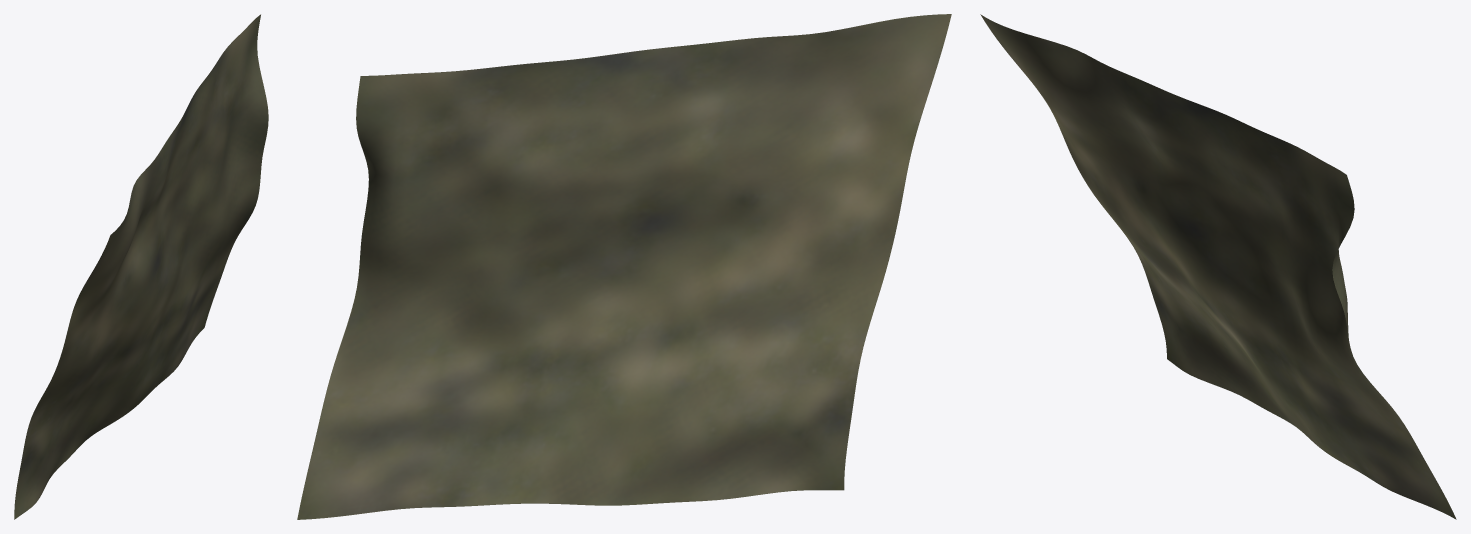
Rendered from ground_mid_03_06.obj.
The picture shows the model from 3 angles, left to right: view 1: azimuth 30°, elevation 25°; view 2: azimuth 150°, elevation 25°; view 3: azimuth 270°, elevation 25°; orthographic projection. The views are drawn at different scales.
Visible parts, largest first — view 1: ground_mid_03_06; view 2: ground_mid_03_06; view 3: ground_mid_03_06.
Part boxes in pixels (x1,y1,x2,y2): ground_mid_03_06: (14, 14, 268, 519); ground_mid_03_06: (297, 14, 951, 519); ground_mid_03_06: (980, 14, 1456, 519).
Bounding box in the file's own units: 200 × 200 × 250.
1 material, 1 textured.
